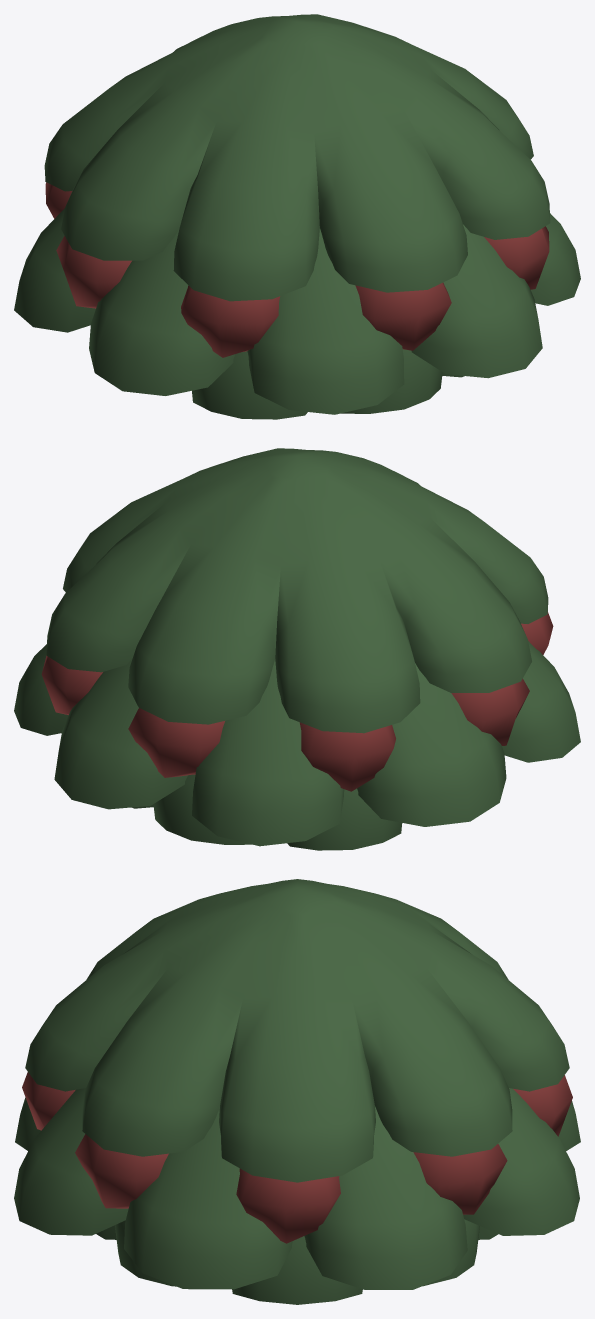
Rendered from Bush_Fruit.glb.
The picture shows the model from 3 angles, top to bottom: view 1: azimuth 30°, elevation 25°; view 2: azimuth 150°, elevation 25°; view 3: azimuth 270°, elevation 25°; orthographic projection. The views are drawn at different scales.
Visible parts, largest first — view 1: Bush_Fruit; view 2: Bush_Fruit; view 3: Bush_Fruit.
Boxes of the visible parts, box(x1,y1,x2,y2) form: Bush_Fruit: box(14, 14, 580, 419); Bush_Fruit: box(14, 448, 580, 850); Bush_Fruit: box(14, 879, 580, 1304).
Bounding box in the file's own units: 3.52 × 2.23 × 3.53.
